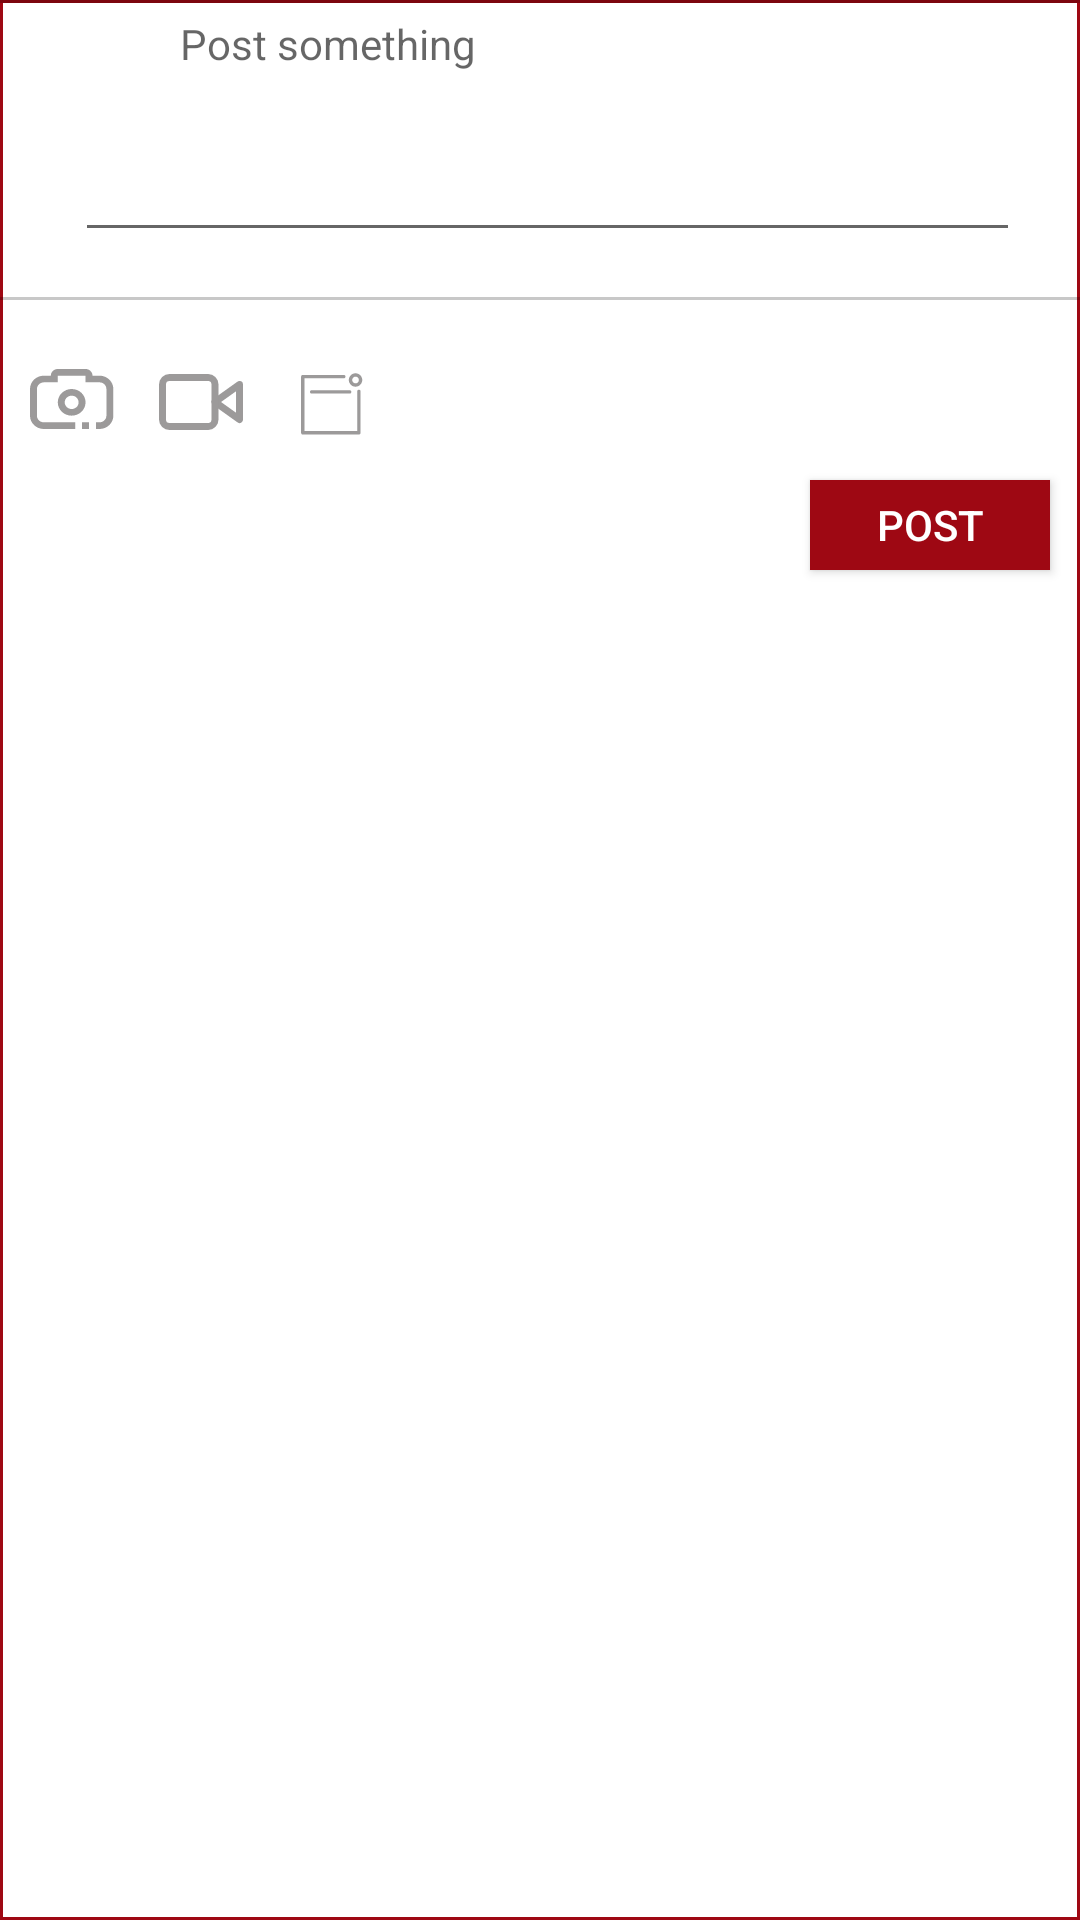

Screen size 1080px x 1920px. Icon name, then its center in pixels as point (x, y):
post camera: point (72, 399)
status: point (332, 404)
video: point (201, 402)
